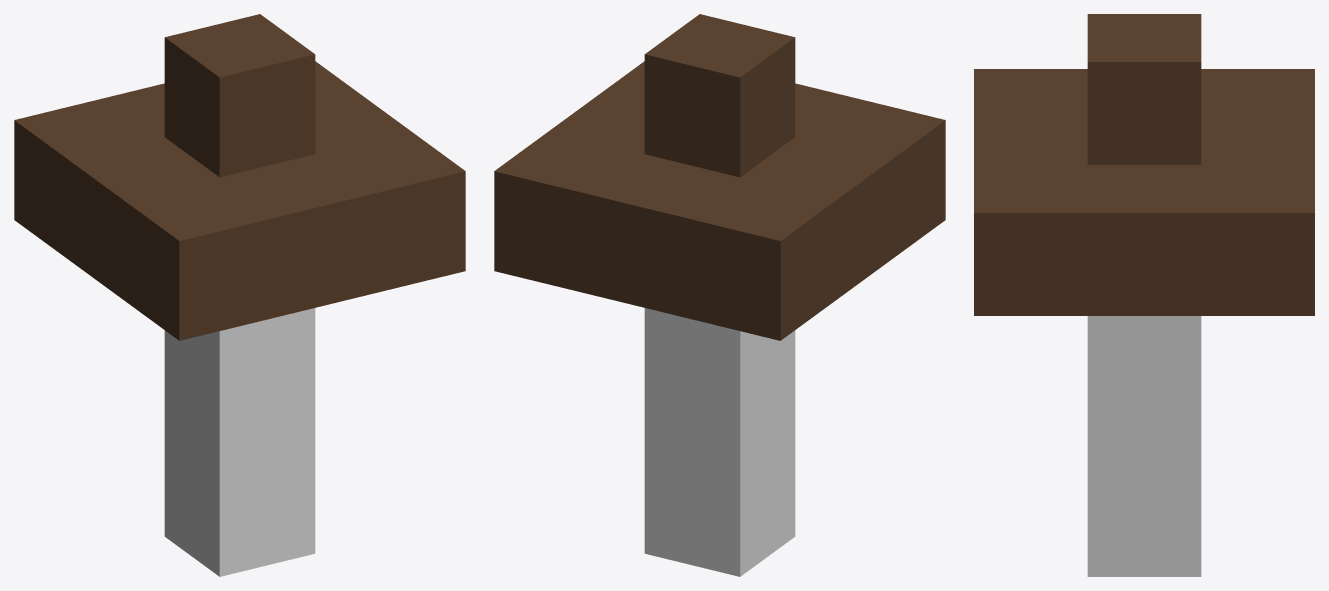
File: fungus2.fbx
3 renders of one model, left to right at view 1: azimuth 30°, elevation 25°; view 2: azimuth 150°, elevation 25°; view 3: azimuth 270°, elevation 25°, orthographic. The views are drawn at different scales.
Visible parts, largest first — view 1: Cube; view 2: Cube; view 3: Cube.
Part boxes in pixels (box(x1,y1,x2,y2)): Cube: box(14, 14, 465, 576); Cube: box(494, 14, 945, 576); Cube: box(974, 14, 1314, 576).
Size of the model in its own units: 300 by 500 by 300.
